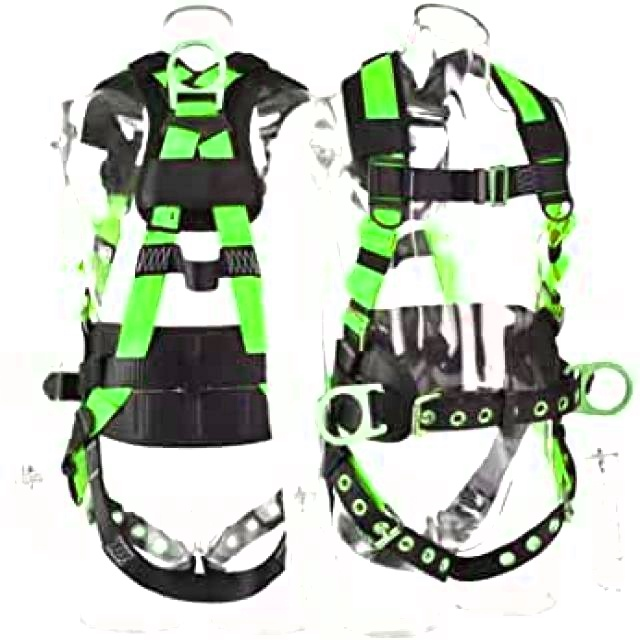safety belt: (325, 50, 585, 600), (38, 47, 279, 603)
